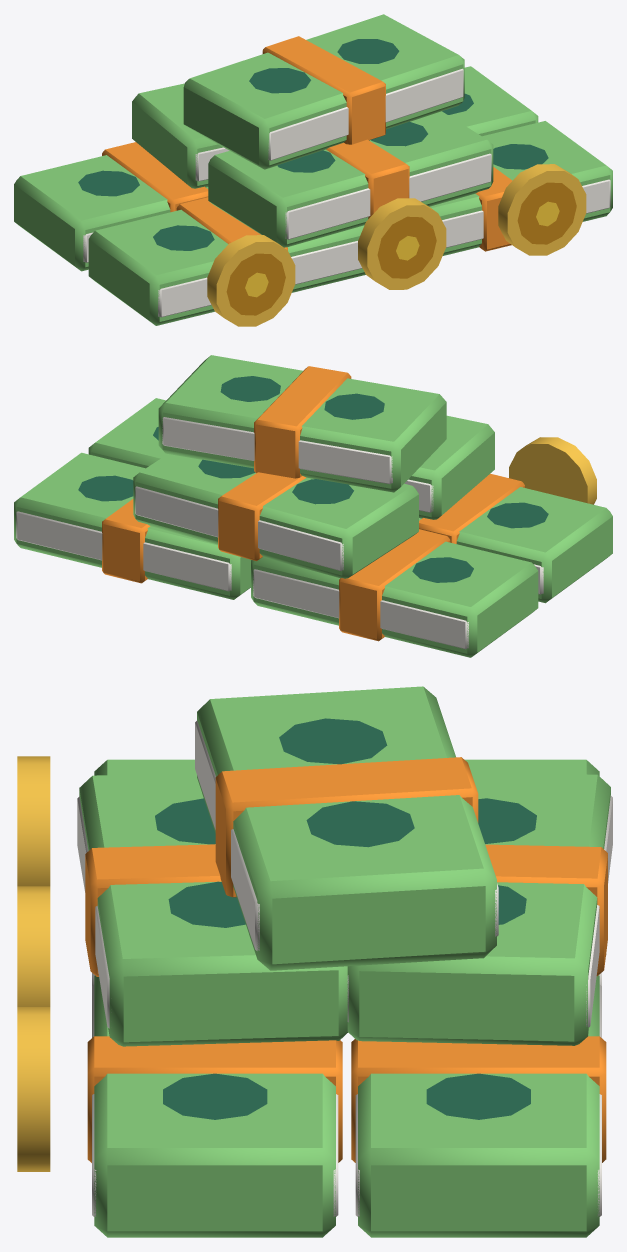
Rendered from cash_brick.glb.
3 renders of one model, top to bottom at view 1: azimuth 30°, elevation 25°; view 2: azimuth 150°, elevation 25°; view 3: azimuth 270°, elevation 25°, orthographic. The views are drawn at different scales.
Visible parts, largest first — view 1: cash_brick; view 2: cash_brick; view 3: cash_brick.
Boxes of the visible parts, <box> form: cash_brick: <box>14,14,612,326</box>; cash_brick: <box>14,355,612,657</box>; cash_brick: <box>17,686,612,1237</box>.
Bounding box in the file's own units: 0.86 × 0.278 × 0.5451.
1 material, 1 textured.
